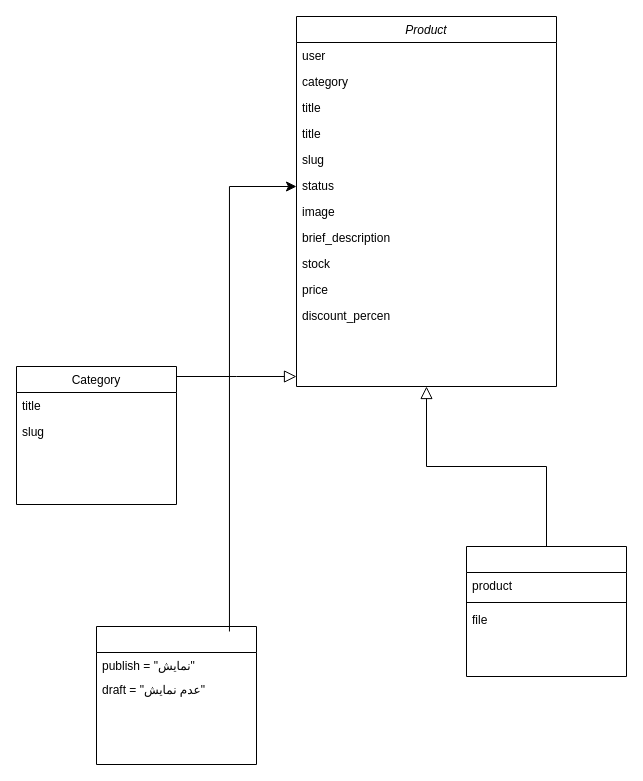
This 643x781 diagram has some shape labels left out. Here are the shapes that lost their labels. From the top down, the box of each, then its label:
(466, 546, 626, 676): PictureProduct
(96, 626, 256, 764): ProductStatusModel
